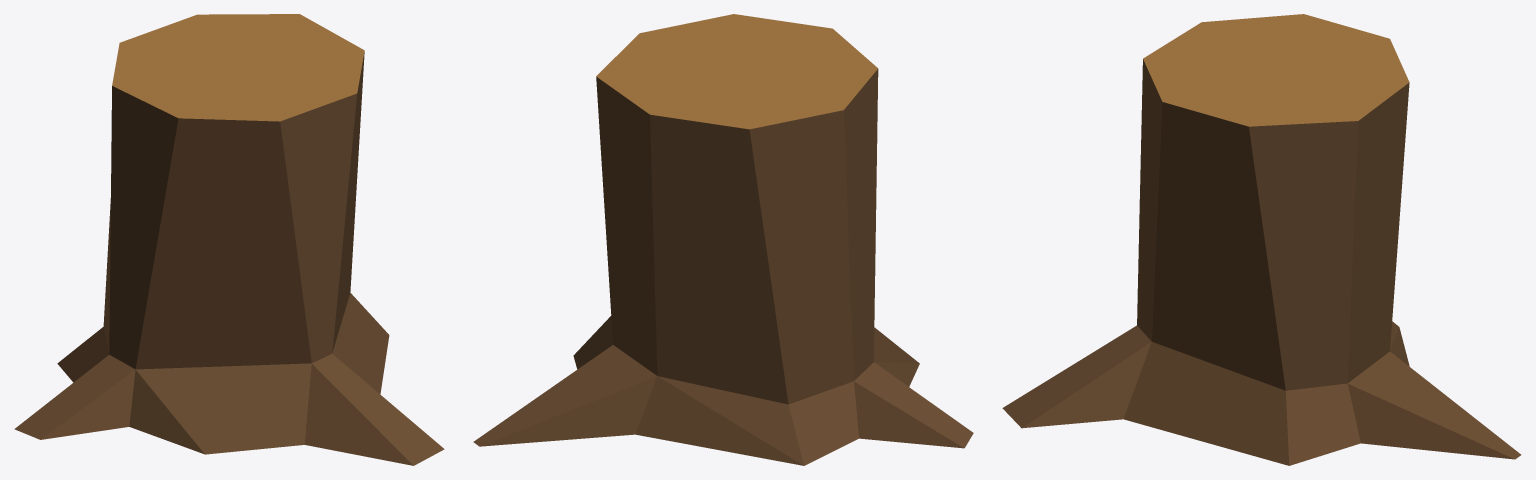
File: nature_stump-small.fbx
3 renders of one model, left to right at view 1: azimuth 30°, elevation 25°; view 2: azimuth 150°, elevation 25°; view 3: azimuth 270°, elevation 25°, orthographic. The views are drawn at different scales.
Parts seen in each view (by area): view 1: nature_stump_small; view 2: nature_stump_small; view 3: nature_stump_small.
Part boxes in pixels (box(x1,y1,x2,y2)): nature_stump_small: box(14, 14, 444, 465); nature_stump_small: box(473, 14, 973, 465); nature_stump_small: box(1002, 14, 1521, 465).
Size of the model in its own units: 172 by 135 by 200.
